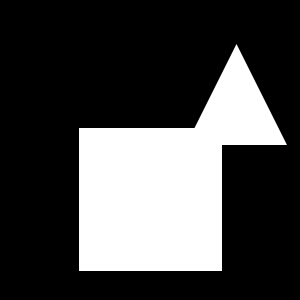circle: (79, 128, 222, 271)
triangle: (186, 44, 287, 145)
